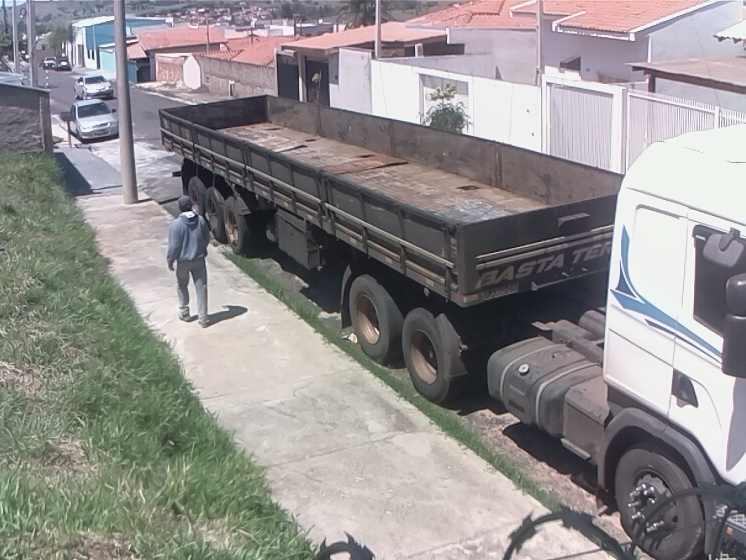person: (164, 194, 215, 330)
